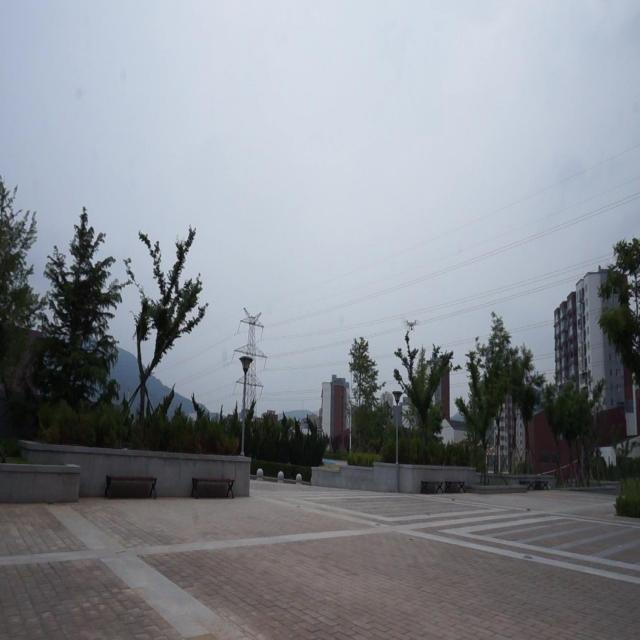UAV: (403, 319, 419, 332)
